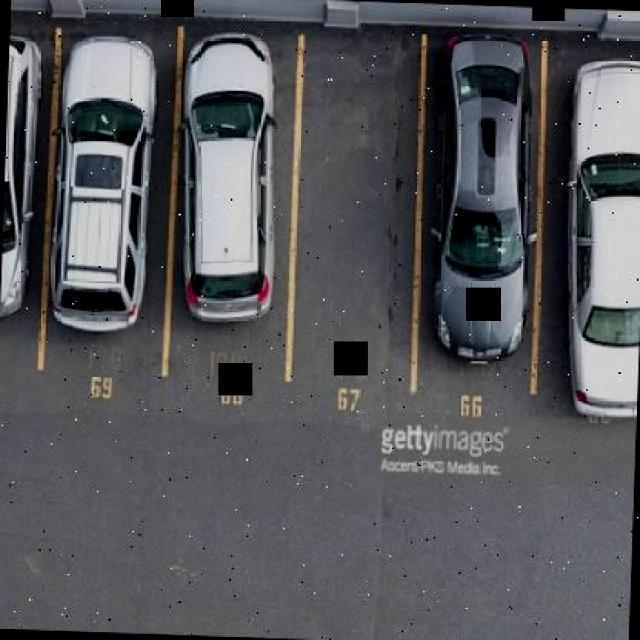space-empty: (297, 38, 420, 394)
space-occupied: (430, 16, 548, 375), (170, 19, 293, 348), (543, 32, 640, 428), (51, 41, 171, 349), (0, 33, 38, 352)
